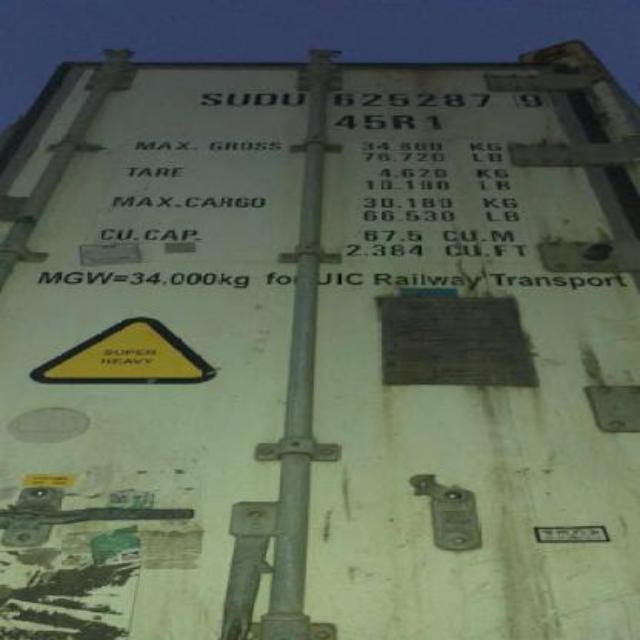2: (412, 86, 442, 110), (354, 88, 382, 109)
5: (384, 86, 414, 110)
6: (328, 85, 354, 109)
7: (470, 86, 494, 110)
8: (442, 84, 470, 108)
9: (514, 88, 548, 109)
D: (256, 86, 278, 110)
S: (196, 82, 220, 108)
U: (220, 84, 250, 112), (284, 88, 306, 112)
